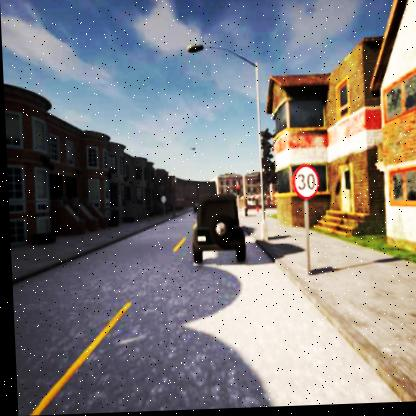vehicle: (187, 195, 244, 265)
